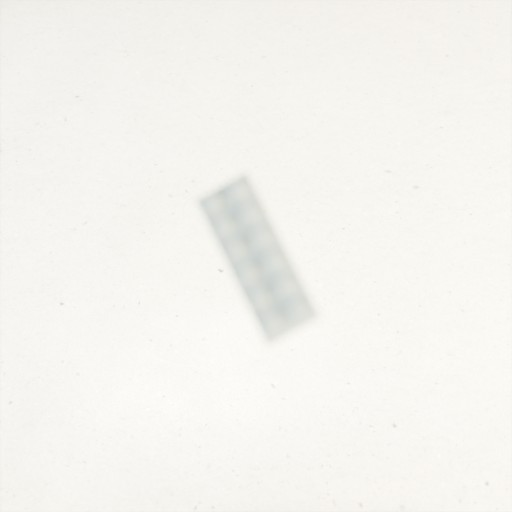lego: (194, 171, 323, 348)
